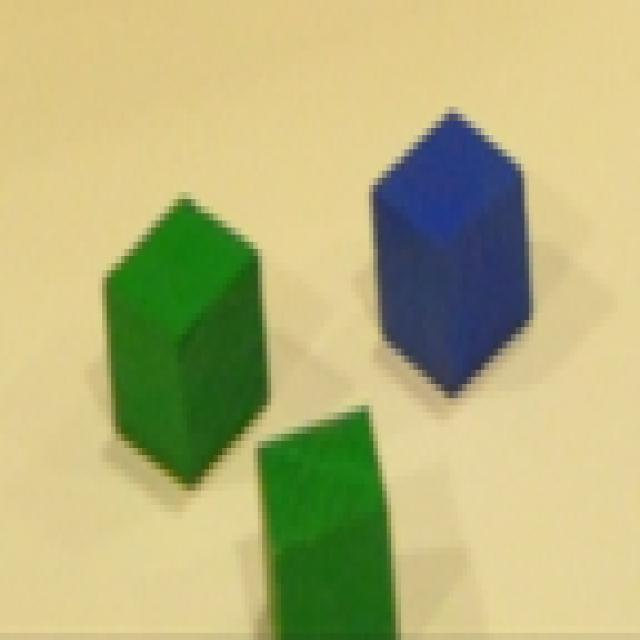bluecube: (369, 107, 533, 405)
green cube: (103, 195, 271, 490), (253, 405, 400, 640)
